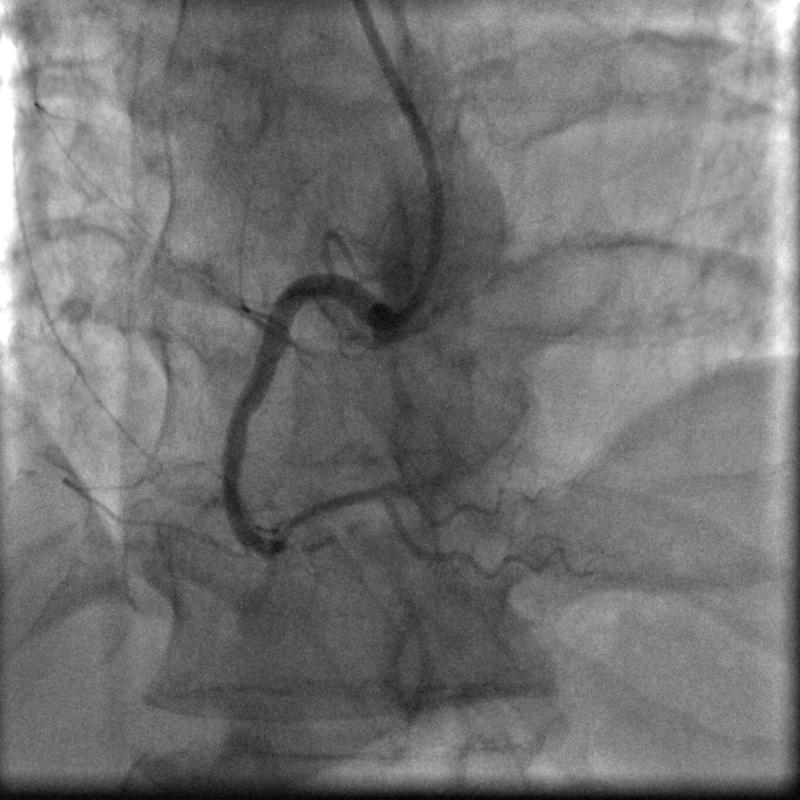Stenosis: (273, 525, 332, 555)
